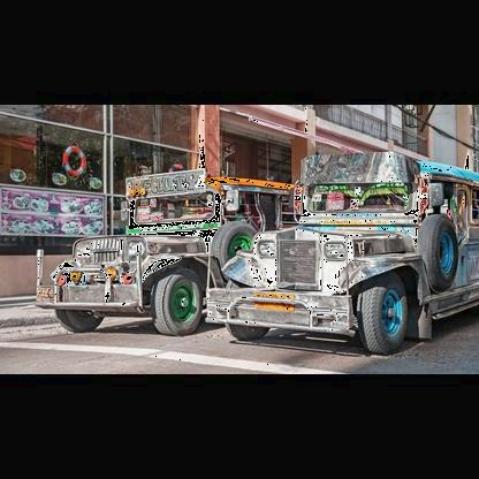jeepney: (203, 113, 479, 356), (29, 132, 255, 344)
